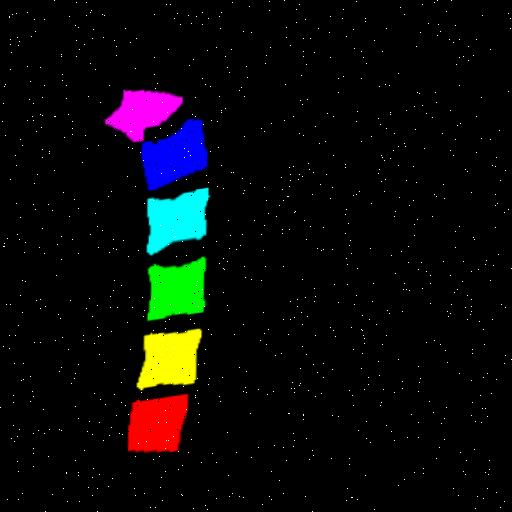L1: (134, 398, 193, 453)
L2: (143, 335, 205, 389)
L3: (153, 262, 208, 323)
L4: (150, 193, 210, 257)
L5: (145, 123, 209, 193)
S1: (106, 93, 183, 145)
